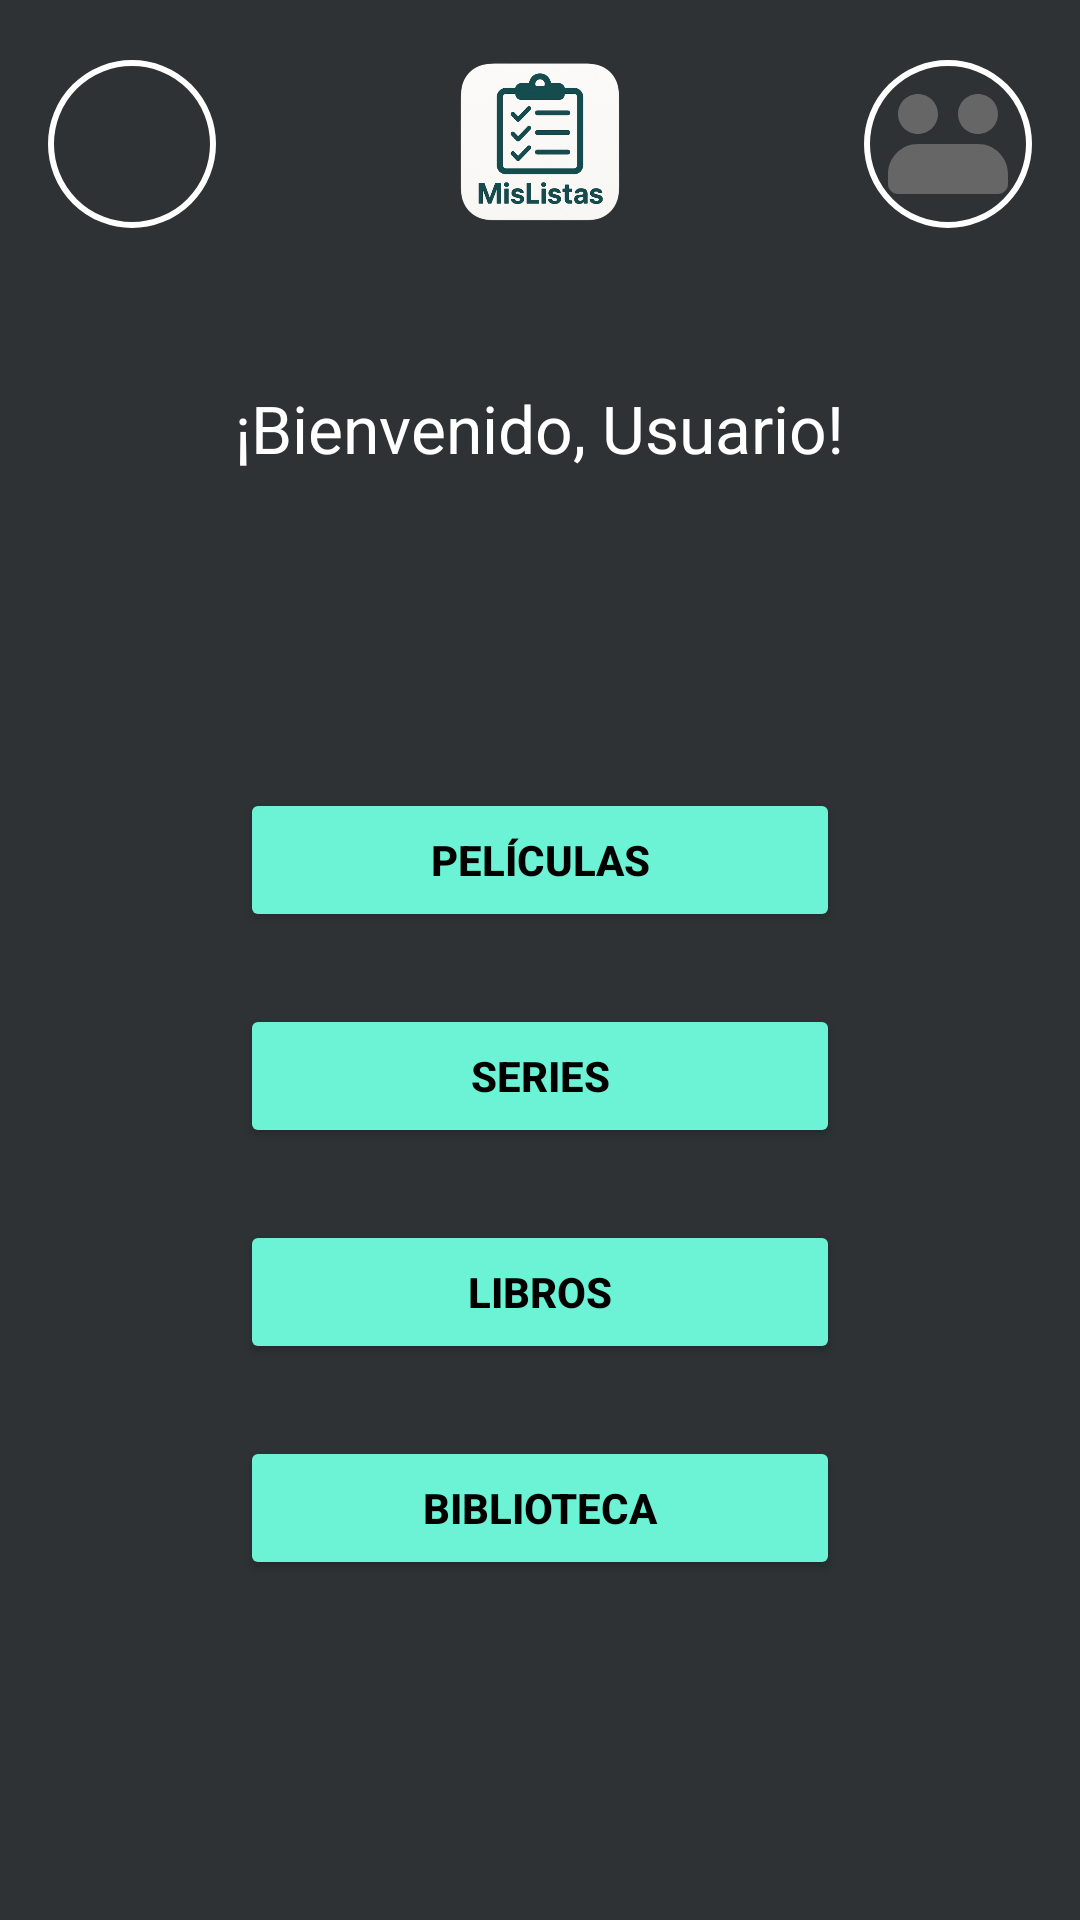

Where to tap for icons on this 1080px x 1920px app screen, as (x=x, y=y):
Amigos: (x=948, y=144)
iconapp: (x=540, y=141)
